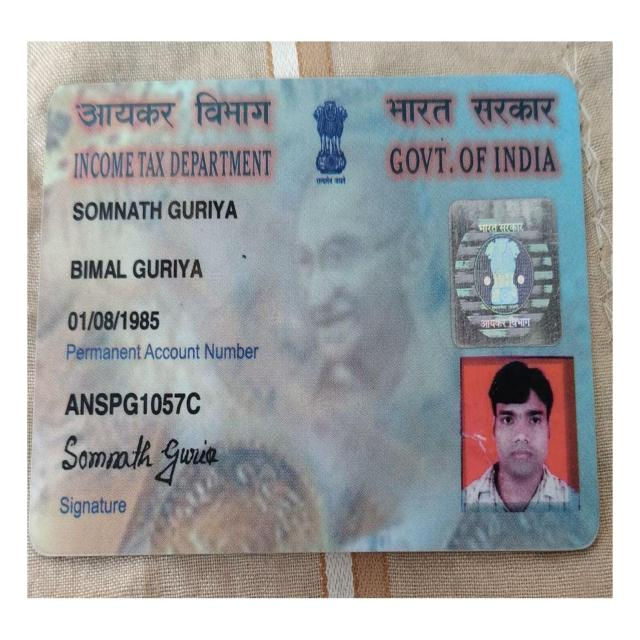pan_card: (44, 87, 589, 548)
